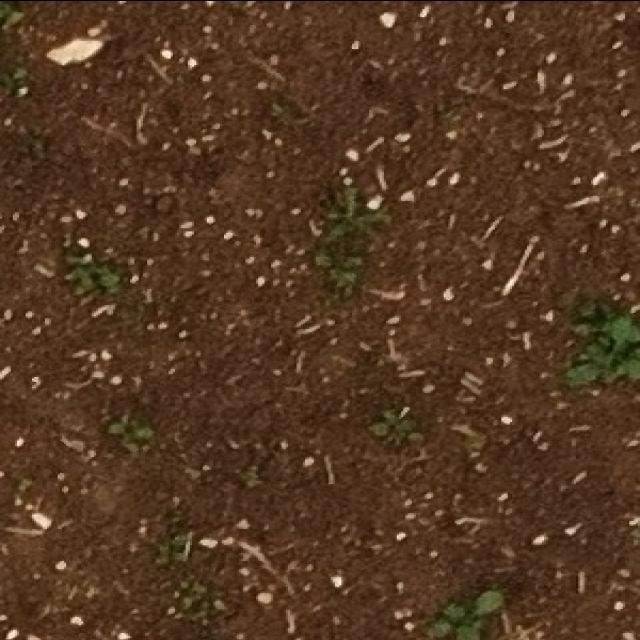cirse: (315, 177, 392, 242), (312, 187, 389, 251), (327, 190, 404, 252)
